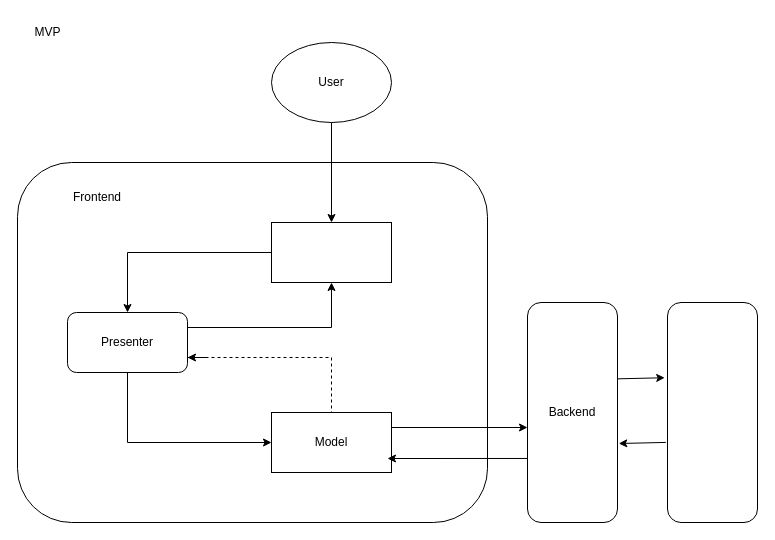
The diagram is 775 pixels wide and 540 high, and some of its shapes have lost their labels. The shapes that lost their labels are listed below. From the top down, each one's box as (x1, y1, x2, y2) in pixels, then its label:
(270, 222, 392, 282): View
(666, 302, 758, 522): DataBase
